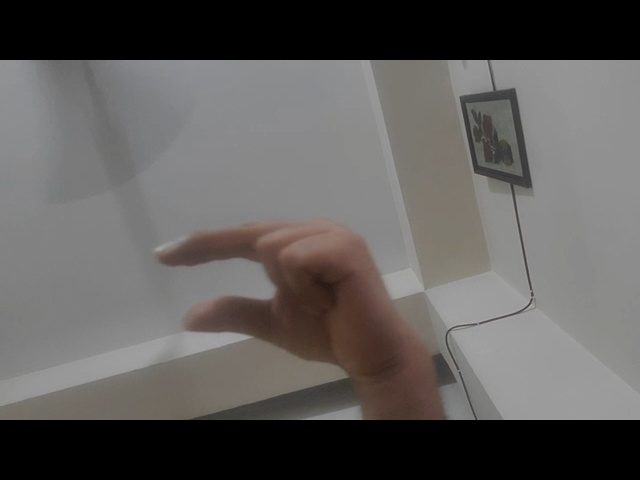No: (142, 207, 427, 394)
